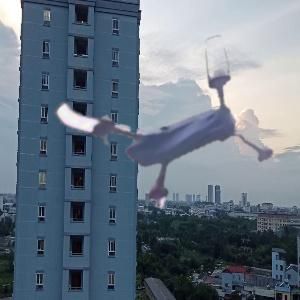drone: (79, 31, 271, 223)
